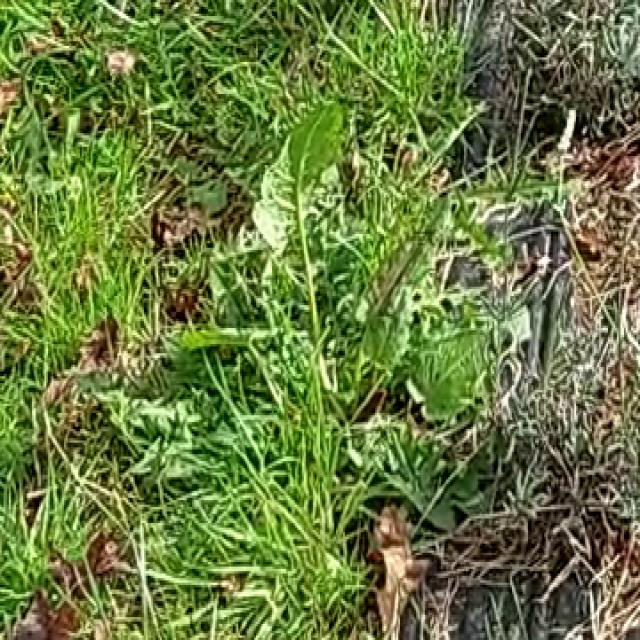organic waste: (193, 37, 468, 452)
